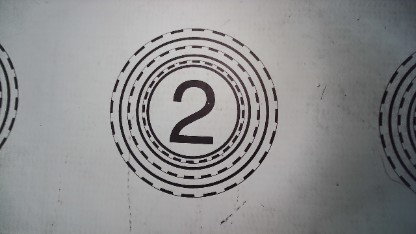2r: (107, 28, 277, 199)
